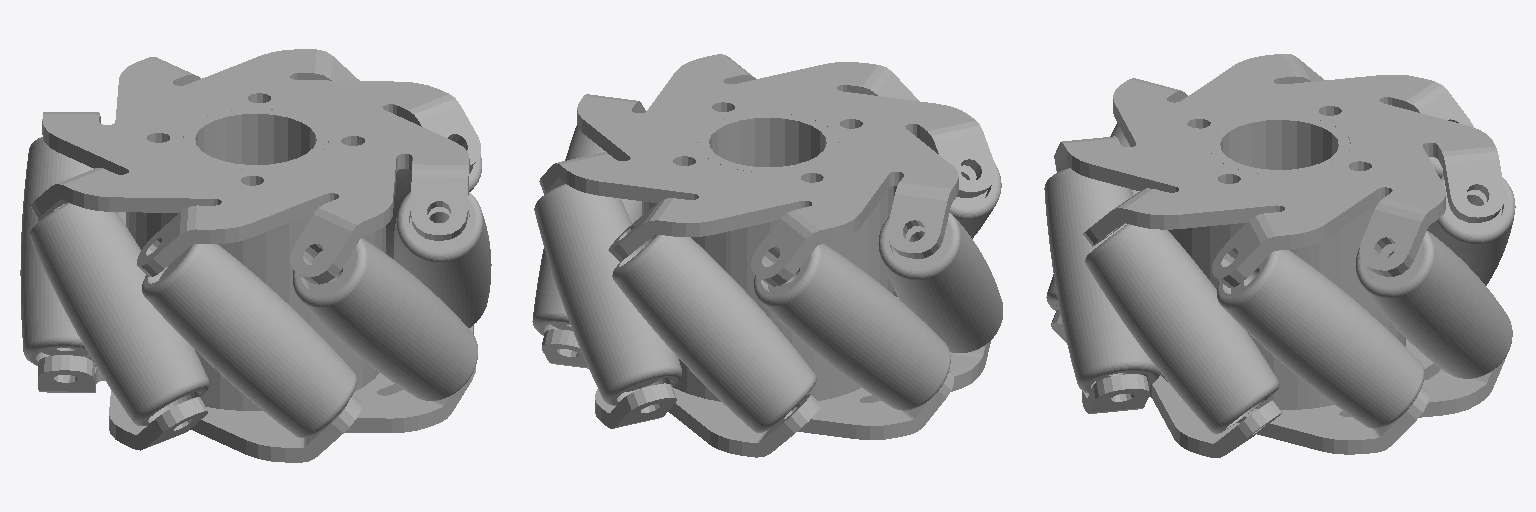
The robot description file, URDF, robot "Mecanum-8J-Right":
<?xml version="1.0" encoding="utf-8"?>
<!-- This URDF was automatically created by SolidWorks to URDF Exporter! Originally created by [author] ([email redacted]) 
     Commit Version: 1.6.0-4-g7f85cfe  Build Version: 1.6.7995.38578
     For more information, please see http://wiki.ros.org/sw_urdf_exporter -->
<robot
  name="Mecanum-8J-Right">
  <link
    name="base_link">
    <inertial>
      <origin
        xyz="1.32629873982571E-18 5.7294714265365E-18 -1.74505470488353E-18"
        rpy="0 0 0" />
      <mass
        value="0.0118270309310726" />
      <inertia
        ixx="1.05151006190876E-06"
        ixy="1.71577816127316E-21"
        ixz="4.53879010428018E-23"
        iyy="1.4398222580115E-06"
        iyz="-4.36452314976156E-22"
        izz="1.05151006190876E-06" />
    </inertial>
    <visual>
      <origin
        xyz="0 0 0"
        rpy="0 0 0" />
      <geometry>
        <mesh
          filename="package://Mecanum-8J-Right/meshes/base_link.STL" />
      </geometry>
      <material
        name="">
        <color
          rgba="0.698039215686274 0.698039215686274 0.698039215686274 1" />
      </material>
    </visual>
    <collision>
      <origin
        xyz="0 0 0"
        rpy="0 0 0" />
      <geometry>
        <mesh
          filename="package://Mecanum-8J-Right/meshes/base_link.STL" />
      </geometry>
    </collision>
  </link>
  <link
    name="Mecanum_roller_link_1">
    <inertial>
      <origin
        xyz="4.6598E-05 3.9407E-06 -4.4062E-06"
        rpy="0 0 0" />
      <mass
        value="0.0013674" />
      <inertia
        ixx="1.3974E-08"
        ixy="4.1359E-25"
        ixz="-9.4092E-24"
        iyy="4.9325E-08"
        iyz="1.2408E-24"
        izz="4.9325E-08" />
    </inertial>
    <visual>
      <origin
        xyz="0 0 0"
        rpy="0 0 0" />
      <geometry>
        <mesh
          filename="package://Mecanum-8J-Right/meshes/Mecanum_roller_link_1.STL" />
      </geometry>
      <material
        name="">
        <color
          rgba="0.69804 0.69804 0.69804 1" />
      </material>
    </visual>
    <collision>
      <origin
        xyz="0 0 0"
        rpy="0 0 0" />
      <geometry>
        <mesh
          filename="package://Mecanum-8J-Right/meshes/Mecanum_roller_link_1.STL" />
      </geometry>
    </collision>
  </link>
  <joint
    name="Mecanum_roller_joint_1"
    type="continuous">
    <origin
      xyz="0.014612 -0.0091675 0"
      rpy="-0.72969 -0.7854 -2.1306" />
    <parent
      link="base_link" />
    <child
      link="Mecanum_roller_link_1" />
    <axis
      xyz="1 0 0" />
    <dynamics
      friction="0.5" />
  </joint>
  <link
    name="Mecanum_roller_link_3">
    <inertial>
      <origin
        xyz="-5.8421E-05 4.6304E-06 3.6747E-06"
        rpy="0 0 0" />
      <mass
        value="0.0013674" />
      <inertia
        ixx="1.3974E-08"
        ixy="3.7223E-24"
        ixz="-2.2747E-24"
        iyy="4.9325E-08"
        iyz="-1.6544E-24"
        izz="4.9325E-08" />
    </inertial>
    <visual>
      <origin
        xyz="0 0 0"
        rpy="0 0 0" />
      <geometry>
        <mesh
          filename="package://Mecanum-8J-Right/meshes/Mecanum_roller_link_3.STL" />
      </geometry>
      <material
        name="">
        <color
          rgba="0.69804 0.69804 0.69804 1" />
      </material>
    </visual>
    <collision>
      <origin
        xyz="0 0 0"
        rpy="0 0 0" />
      <geometry>
        <mesh
          filename="package://Mecanum-8J-Right/meshes/Mecanum_roller_link_3.STL" />
      </geometry>
    </collision>
  </link>
  <joint
    name="Mecanum_roller_joint_3"
    type="continuous">
    <origin
      xyz="0.0091675 0.014612 0"
      rpy="-2.2416 -0.7854 -0.55983" />
    <parent
      link="base_link" />
    <child
      link="Mecanum_roller_link_3" />
    <axis
      xyz="1 0 0" />
    <dynamics
      friction="0.5" />
  </joint>
  <link
    name="Mecanum_roller_link_4">
    <inertial>
      <origin
        xyz="-5.8421E-05 9.4086E-07 5.836E-06"
        rpy="0 0 0" />
      <mass
        value="0.0013674" />
      <inertia
        ixx="1.3974E-08"
        ixy="4.1359E-25"
        ixz="-3.2669E-24"
        iyy="4.9325E-08"
        iyz="3.1019E-25"
        izz="4.9325E-08" />
    </inertial>
    <visual>
      <origin
        xyz="0 0 0"
        rpy="0 0 0" />
      <geometry>
        <mesh
          filename="package://Mecanum-8J-Right/meshes/Mecanum_roller_link_4.STL" />
      </geometry>
      <material
        name="">
        <color
          rgba="0.69804 0.69804 0.69804 1" />
      </material>
    </visual>
    <collision>
      <origin
        xyz="0 0 0"
        rpy="0 0 0" />
      <geometry>
        <mesh
          filename="package://Mecanum-8J-Right/meshes/Mecanum_roller_link_4.STL" />
      </geometry>
    </collision>
  </link>
  <joint
    name="Mecanum_roller_joint_4"
    type="continuous">
    <origin
      xyz="-0.0038664 0.016811 0"
      rpy="0.15984 0.7854 -2.916" />
    <parent
      link="base_link" />
    <child
      link="Mecanum_roller_link_4" />
    <axis
      xyz="1 0 0" />
    <dynamics
      friction="0.5" />
  </joint>
  <link
    name="Mecanum_roller_link_5">
    <inertial>
      <origin
        xyz="-5.8421E-05 4.9513E-06 3.2293E-06"
        rpy="0 0 0" />
      <mass
        value="0.0013674" />
      <inertia
        ixx="1.3974E-08"
        ixy="-5.7903E-24"
        ixz="1.5096E-23"
        iyy="4.9325E-08"
        iyz="1.2408E-24"
        izz="4.9325E-08" />
    </inertial>
    <visual>
      <origin
        xyz="0 0 0"
        rpy="0 0 0" />
      <geometry>
        <mesh
          filename="package://Mecanum-8J-Right/meshes/Mecanum_roller_link_5.STL" />
      </geometry>
      <material
        name="">
        <color
          rgba="0.69804 0.69804 0.69804 1" />
      </material>
    </visual>
    <collision>
      <origin
        xyz="0 0 0"
        rpy="0 0 0" />
      <geometry>
        <mesh
          filename="package://Mecanum-8J-Right/meshes/Mecanum_roller_link_5.STL" />
      </geometry>
    </collision>
  </link>
  <joint
    name="Mecanum_roller_joint_5"
    type="continuous">
    <origin
      xyz="-0.014621 0.0091533 0"
      rpy="0.99286 0.7854 -2.1306" />
    <parent
      link="base_link" />
    <child
      link="Mecanum_roller_link_5" />
    <axis
      xyz="1 0 0" />
    <dynamics
      friction="0.5" />
  </joint>
  <link
    name="Mecanum_roller_link_6">
    <inertial>
      <origin
        xyz="4.6598E-05 5.9111E-06 4.7784E-08"
        rpy="0 0 0" />
      <mass
        value="0.0013674" />
      <inertia
        ixx="1.3974E-08"
        ixy="3.3087E-24"
        ixz="8.2718E-25"
        iyy="4.9325E-08"
        iyz="-8.2718E-25"
        izz="4.9325E-08" />
    </inertial>
    <visual>
      <origin
        xyz="0 0 0"
        rpy="0 0 0" />
      <geometry>
        <mesh
          filename="package://Mecanum-8J-Right/meshes/Mecanum_roller_link_6.STL" />
      </geometry>
      <material
        name="">
        <color
          rgba="0.69804 0.69804 0.69804 1" />
      </material>
    </visual>
    <collision>
      <origin
        xyz="0 0 0"
        rpy="0 0 0" />
      <geometry>
        <mesh
          filename="package://Mecanum-8J-Right/meshes/Mecanum_roller_link_6.STL" />
      </geometry>
    </collision>
  </link>
  <joint
    name="Mecanum_roller_joint_6"
    type="continuous">
    <origin
      xyz="-0.016811 -0.0038664 0"
      rpy="1.5627 0.7854 -1.3452" />
    <parent
      link="base_link" />
    <child
      link="Mecanum_roller_link_6" />
    <axis
      xyz="1 0 0" />
    <dynamics
      friction="0.5" />
  </joint>
  <link
    name="Mecanum_roller_link_7">
    <inertial>
      <origin
        xyz="-0.00043342 5.7766E-06 1.2548E-06"
        rpy="0 0 0" />
      <mass
        value="0.0013674" />
      <inertia
        ixx="1.3974E-08"
        ixy="5.1117E-24"
        ixz="-1.2408E-24"
        iyy="4.9325E-08"
        iyz="-1.8612E-24"
        izz="4.9325E-08" />
    </inertial>
    <visual>
      <origin
        xyz="0 0 0"
        rpy="0 0 0" />
      <geometry>
        <mesh
          filename="package://Mecanum-8J-Right/meshes/Mecanum_roller_link_7.STL" />
      </geometry>
      <material
        name="">
        <color
          rgba="0.69804 0.69804 0.69804 1" />
      </material>
    </visual>
    <collision>
      <origin
        xyz="0 0 0"
        rpy="0 0 0" />
      <geometry>
        <mesh
          filename="package://Mecanum-8J-Right/meshes/Mecanum_roller_link_7.STL" />
      </geometry>
    </collision>
  </link>
  <joint
    name="Mecanum_roller_joint_7"
    type="continuous">
    <origin
      xyz="0.0038501 -0.016815 0"
      rpy="-1.7847 -0.7854 -2.916" />
    <parent
      link="base_link" />
    <child
      link="Mecanum_roller_link_7" />
    <axis
      xyz="1 0 0" />
    <dynamics
      friction="0.5" />
  </joint>
  <link
    name="Mecanum_roller_link_8">
    <inertial>
      <origin
        xyz="-5.8421E-05 -2.3563E-06 -5.4214E-06"
        rpy="0 0 0" />
      <mass
        value="0.0013674" />
      <inertia
        ixx="1.3974E-08"
        ixy="-1.6544E-24"
        ixz="5.0923E-24"
        iyy="4.9325E-08"
        iyz="-2.068E-25"
        izz="4.9325E-08" />
    </inertial>
    <visual>
      <origin
        xyz="0 0 0"
        rpy="0 0 0" />
      <geometry>
        <mesh
          filename="package://Mecanum-8J-Right/meshes/Mecanum_roller_link_8.STL" />
      </geometry>
      <material
        name="">
        <color
          rgba="0.69804 0.69804 0.69804 1" />
      </material>
    </visual>
    <collision>
      <origin
        xyz="0 0 0"
        rpy="0 0 0" />
      <geometry>
        <mesh
          filename="package://Mecanum-8J-Right/meshes/Mecanum_roller_link_8.STL" />
      </geometry>
    </collision>
  </link>
  <joint
    name="Mecanum_roller_joint_8"
    type="continuous">
    <origin
      xyz="-0.0091675 -0.014612 0"
      rpy="0.41001 -0.7854 2.5818" />
    <parent
      link="base_link" />
    <child
      link="Mecanum_roller_link_8" />
    <axis
      xyz="1 0 0" />
    <dynamics
      friction="0.5" />
  </joint>
  <link
    name="Mecanum_roller_link_2">
    <inertial>
      <origin
        xyz="-5.8421E-05 5.8158E-06 -1.0583E-06"
        rpy="0 0 0" />
      <mass
        value="0.0013674" />
      <inertia
        ixx="1.3974E-08"
        ixy="-8.2718E-25"
        ixz="-3.5155E-24"
        iyy="4.9325E-08"
        iyz="-4.9631E-24"
        izz="4.9325E-08" />
    </inertial>
    <visual>
      <origin
        xyz="0 0 0"
        rpy="0 0 0" />
      <geometry>
        <mesh
          filename="package://Mecanum-8J-Right/meshes/Mecanum_roller_link_2.STL" />
      </geometry>
      <material
        name="">
        <color
          rgba="0.69804 0.69804 0.69804 1" />
      </material>
    </visual>
    <collision>
      <origin
        xyz="0 0 0"
        rpy="0 0 0" />
      <geometry>
        <mesh
          filename="package://Mecanum-8J-Right/meshes/Mecanum_roller_link_2.STL" />
      </geometry>
    </collision>
  </link>
  <joint
    name="Mecanum_roller_joint_2"
    type="continuous">
    <origin
      xyz="0.016815 0.0038501 0"
      rpy="-1.3908 -0.7854 -1.3452" />
    <parent
      link="base_link" />
    <child
      link="Mecanum_roller_link_2" />
    <axis
      xyz="1 0 0" />
    <dynamics
      friction="0.5" />
  </joint>
</robot>

--- Render facts (derived) ---
3 views of the same robot in one strip: view 1: azimuth 30°, elevation 25°; view 2: azimuth 150°, elevation 25°; view 3: azimuth 270°, elevation 25° (orthographic).
Robot: Mecanum-8J-Right — 9 links, 8 joints (8 continuous); root link base_link; default pose: all joints at 0.
Visible links, largest first — view 1: base_link, Mecanum_roller_link_8, Mecanum_roller_link_6, Mecanum_roller_link_7, Mecanum_roller_link_1, Mecanum_roller_link_5, Mecanum_roller_link_2; view 2: base_link, Mecanum_roller_link_4, Mecanum_roller_link_5, Mecanum_roller_link_3, Mecanum_roller_link_6, Mecanum_roller_link_2, Mecanum_roller_link_8; view 3: base_link, Mecanum_roller_link_1, Mecanum_roller_link_2, Mecanum_roller_link_3, Mecanum_roller_link_7, Mecanum_roller_link_4.
Link boxes in pixels (left/top/right/bottom): base_link: left=31, top=49, right=480, bottom=462; Mecanum_roller_link_8: left=142, top=244, right=356, bottom=437; Mecanum_roller_link_6: left=30, top=203, right=208, bottom=425; Mecanum_roller_link_7: left=293, top=238, right=477, bottom=400; Mecanum_roller_link_1: left=394, top=192, right=491, bottom=327; Mecanum_roller_link_5: left=20, top=137, right=117, bottom=366; Mecanum_roller_link_2: left=386, top=155, right=481, bottom=258; base_link: left=539, top=54, right=996, bottom=457; Mecanum_roller_link_4: left=612, top=235, right=816, bottom=432; Mecanum_roller_link_5: left=754, top=244, right=950, bottom=410; Mecanum_roller_link_3: left=534, top=184, right=681, bottom=405; Mecanum_roller_link_6: left=878, top=213, right=1002, bottom=352; Mecanum_roller_link_2: left=532, top=124, right=641, bottom=335; Mecanum_roller_link_8: left=894, top=164, right=1001, bottom=296; base_link: left=1051, top=54, right=1506, bottom=457; Mecanum_roller_link_1: left=1085, top=224, right=1279, bottom=433; Mecanum_roller_link_2: left=1217, top=250, right=1424, bottom=428; Mecanum_roller_link_3: left=1356, top=231, right=1512, bottom=378; Mecanum_roller_link_7: left=1044, top=168, right=1160, bottom=393; Mecanum_roller_link_4: left=1427, top=175, right=1515, bottom=285.
Bounding box of the posed robot: 0.0446 × 0.0446 × 0.0236 m (x, y, z).
9 mesh visuals loaded from 9 distinct referenced files (9 binary STL).